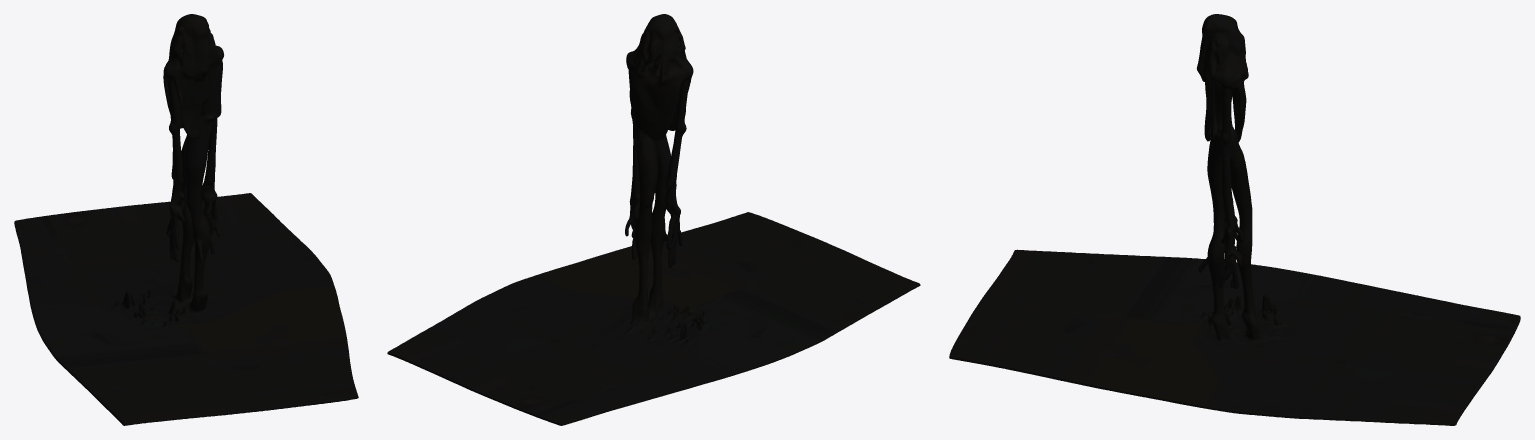
The model's file is garak_horror10.glb.
The picture shows the model from 3 angles, left to right: view 1: azimuth 30°, elevation 25°; view 2: azimuth 150°, elevation 25°; view 3: azimuth 270°, elevation 25°; orthographic projection. The views are drawn at different scales.
Visible parts, largest first — view 1: horror10.obj; view 2: horror10.obj; view 3: horror10.obj.
Part boxes in pixels (x1,y1,x2,y2): horror10.obj: [14, 14, 358, 425]; horror10.obj: [387, 14, 920, 425]; horror10.obj: [949, 14, 1520, 425].
Bounding box in the file's own units: 1.42 × 1.23 × 1.97.
Materials: 1 (1 with a texture image).
